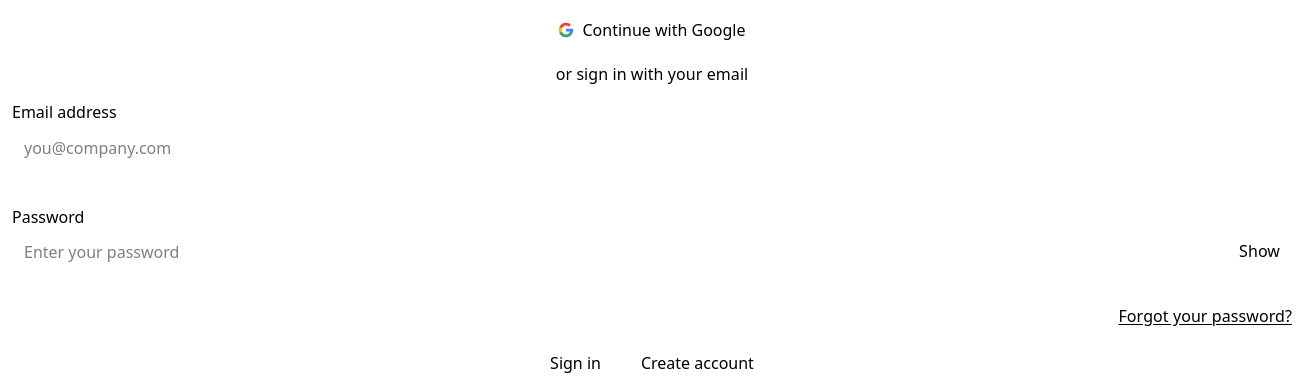
Test: AuthForm password reset request › posts the request through the shared client and confirms it was sent
In the field with placeholder "you@company.com": [652, 148] box [12,130,1292,166], type "a@x.com"
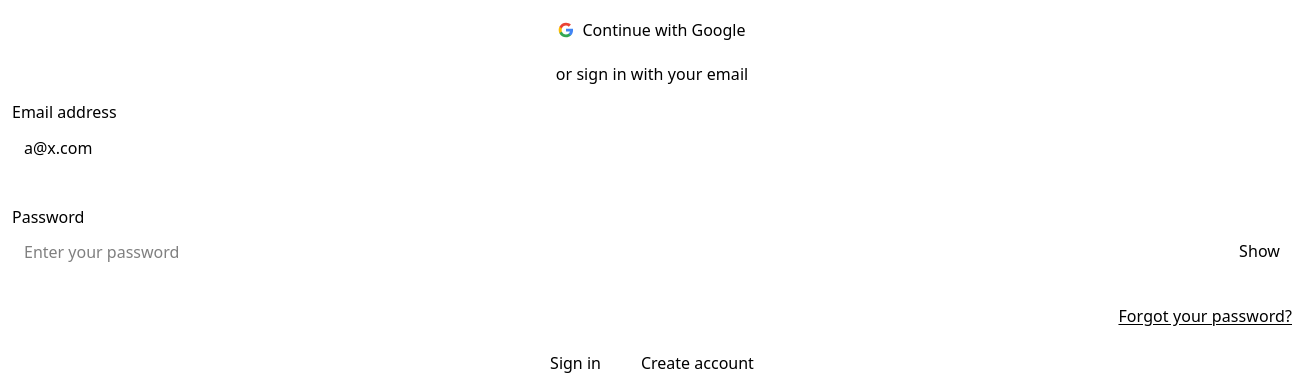
Click the button "Forgot your password?": [1205, 316] box [1118,306,1292,327]
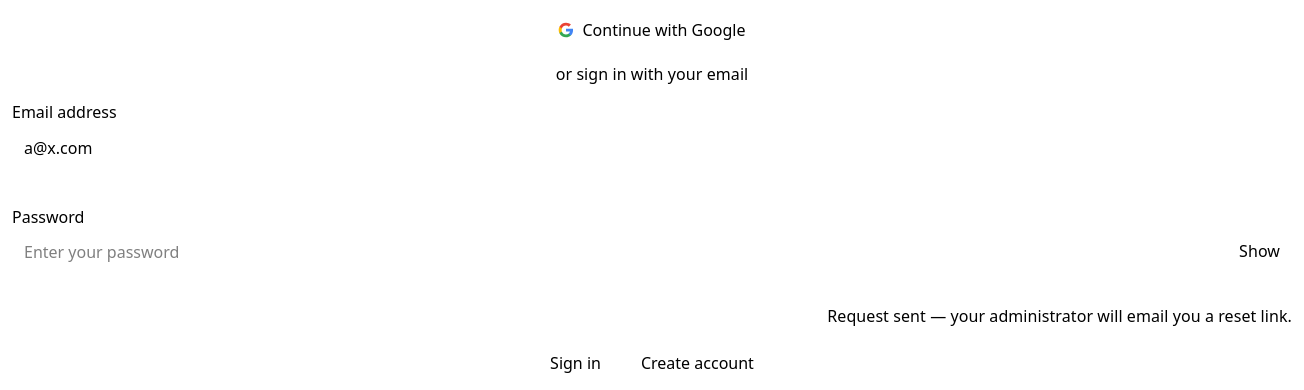
Now the message shows "Request sent", box [827,305,1292,327]
